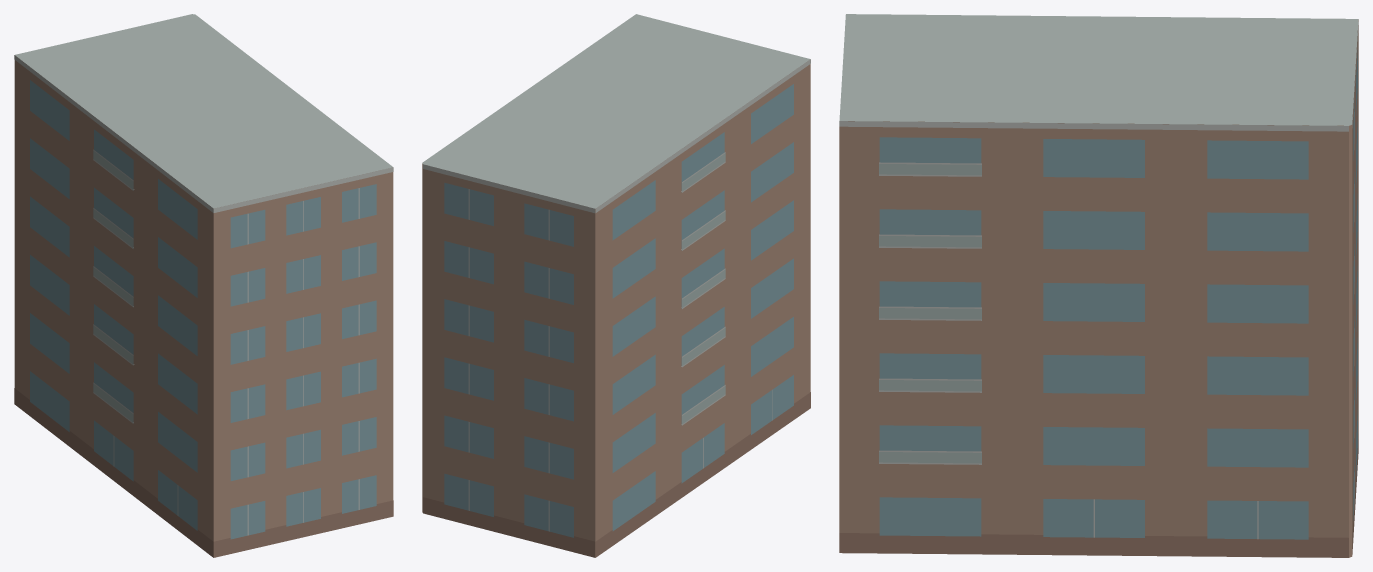
File: survey-upis-32993338.glb
3 views of the same model, side by side, from view 1: azimuth 30°, elevation 25°; view 2: azimuth 150°, elevation 25°; view 3: azimuth 270°, elevation 25° (orthographic). The views are drawn at different scales.
Parts seen in each view (by area): view 1: survey-upis-32993338.tmp; view 2: survey-upis-32993338.tmp; view 3: survey-upis-32993338.tmp.
Part boxes in pixels (x1,y1,x2,y2): survey-upis-32993338.tmp: (14, 14, 393, 557); survey-upis-32993338.tmp: (422, 14, 810, 557); survey-upis-32993338.tmp: (839, 14, 1358, 557).
Bounding box in the file's own units: 10.17 × 18.3 × 19.94.
